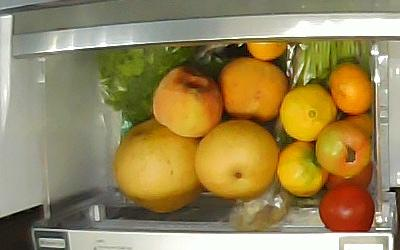peach: (152, 65, 222, 137), (218, 57, 288, 122)
pear: (116, 117, 202, 212), (195, 119, 279, 200)
tangerine: (279, 82, 336, 141), (276, 140, 327, 196), (328, 63, 374, 115), (246, 41, 289, 61), (345, 112, 374, 134)
tomato: (316, 119, 375, 178), (319, 185, 375, 233), (325, 162, 374, 187)
